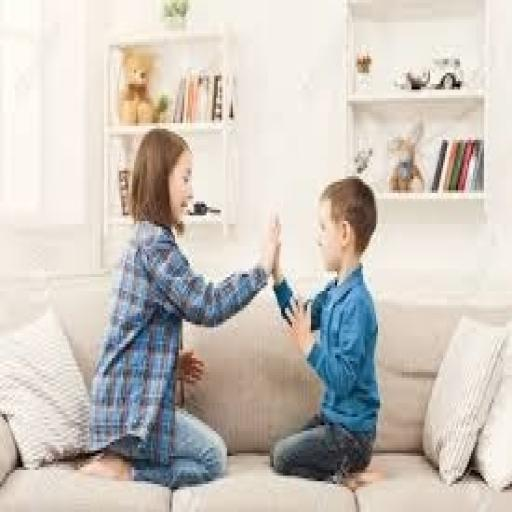clapping: (76, 123, 281, 487)
